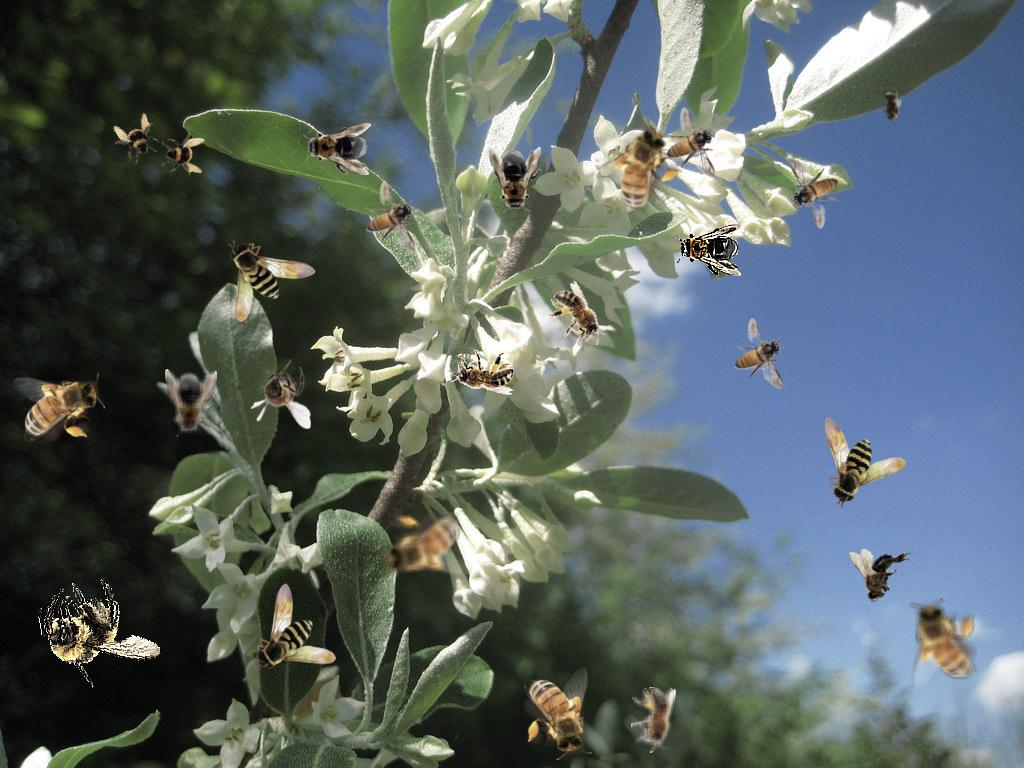Bee: (33, 569, 166, 696), (582, 112, 698, 227), (798, 394, 912, 510), (254, 583, 336, 671), (228, 240, 316, 322), (12, 373, 105, 441), (379, 512, 472, 580), (524, 667, 592, 760), (909, 598, 977, 691), (539, 278, 617, 359), (250, 359, 311, 429), (488, 145, 544, 215), (106, 109, 166, 169), (666, 107, 716, 178), (366, 181, 416, 252), (789, 158, 839, 229), (734, 318, 784, 389), (165, 369, 217, 437), (675, 224, 743, 276), (303, 123, 371, 175), (849, 549, 911, 602), (631, 687, 676, 753), (448, 350, 514, 395), (161, 131, 205, 175), (880, 87, 902, 127)
